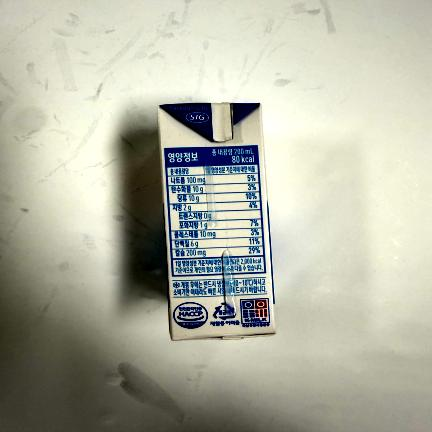milk_blue: (159, 102, 278, 340)
